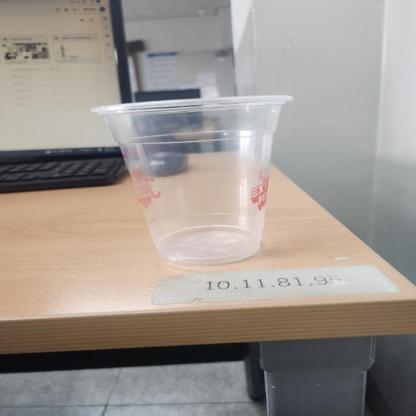Plastic Cup: (89, 94, 295, 266)
